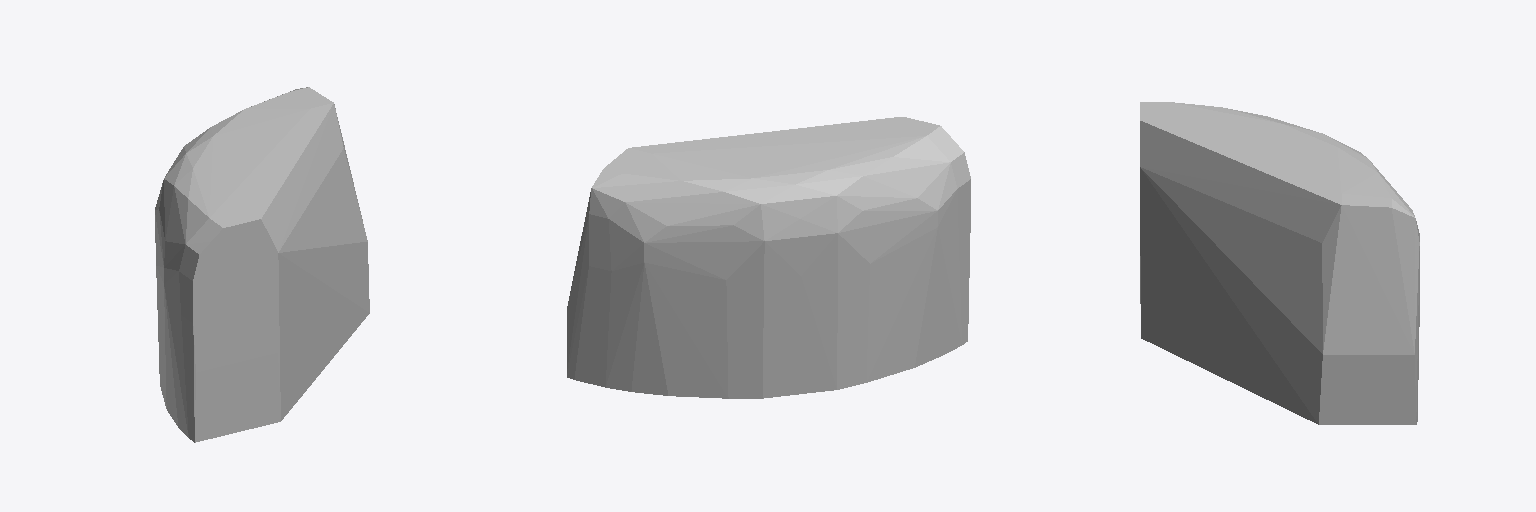
The model's file is Wine_Bottle_1_collision_5.obj.
The picture shows the model from 3 angles: view 1: azimuth 30°, elevation 25°; view 2: azimuth 150°, elevation 25°; view 3: azimuth 270°, elevation 25°; orthographic projection.
Size of the model in its own units: 0.0182 by 0.0136 by 0.0166.